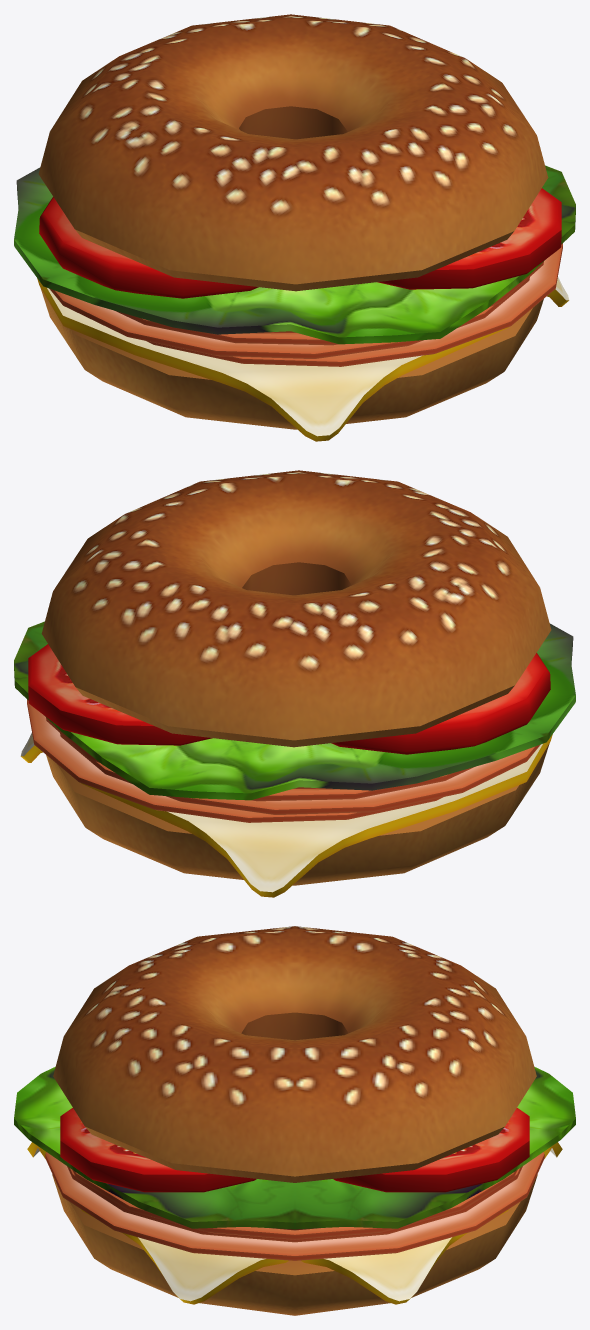
The model's file is 007-Bagel_Sandwich2.FBX.
3 renders of one model, top to bottom at view 1: azimuth 30°, elevation 25°; view 2: azimuth 150°, elevation 25°; view 3: azimuth 270°, elevation 25°, orthographic. The views are drawn at different scales.
Visible parts, largest first — view 1: 007-Bagel_Sandwich2; view 2: 007-Bagel_Sandwich2; view 3: 007-Bagel_Sandwich2.
Part boxes in pixels (bbox=[...]): 007-Bagel_Sandwich2: bbox=[14, 14, 575, 441]; 007-Bagel_Sandwich2: bbox=[14, 470, 575, 897]; 007-Bagel_Sandwich2: bbox=[14, 926, 575, 1315].
Bounding box in the file's own units: 19.77 × 10.32 × 20.8.
